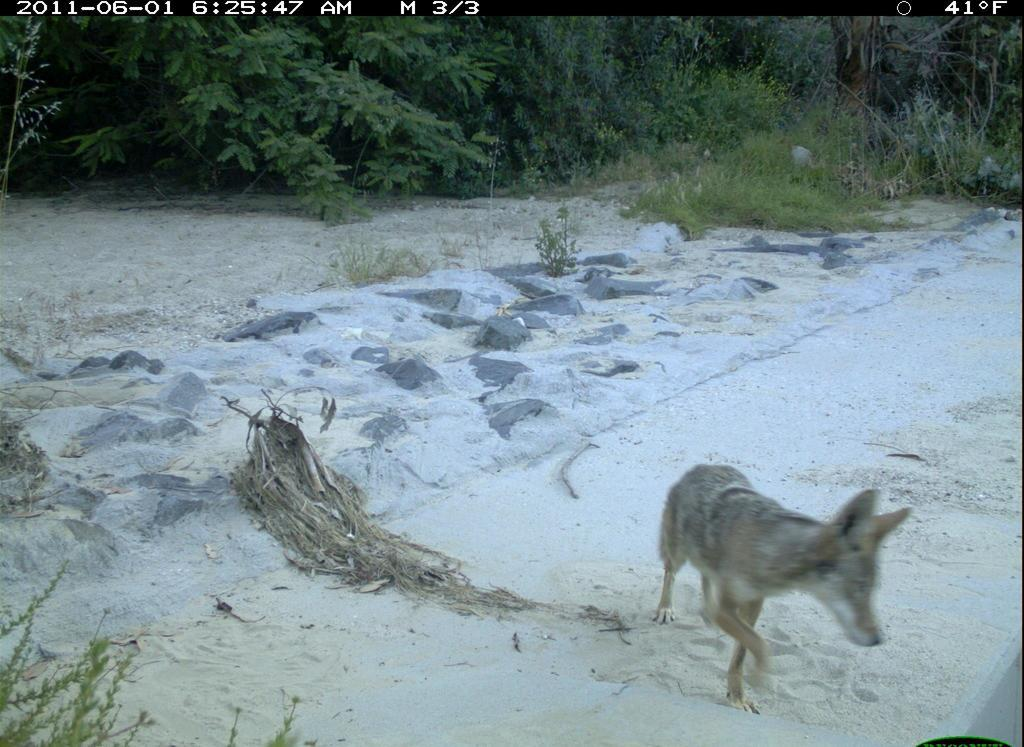coyote: (647, 452, 914, 725)
